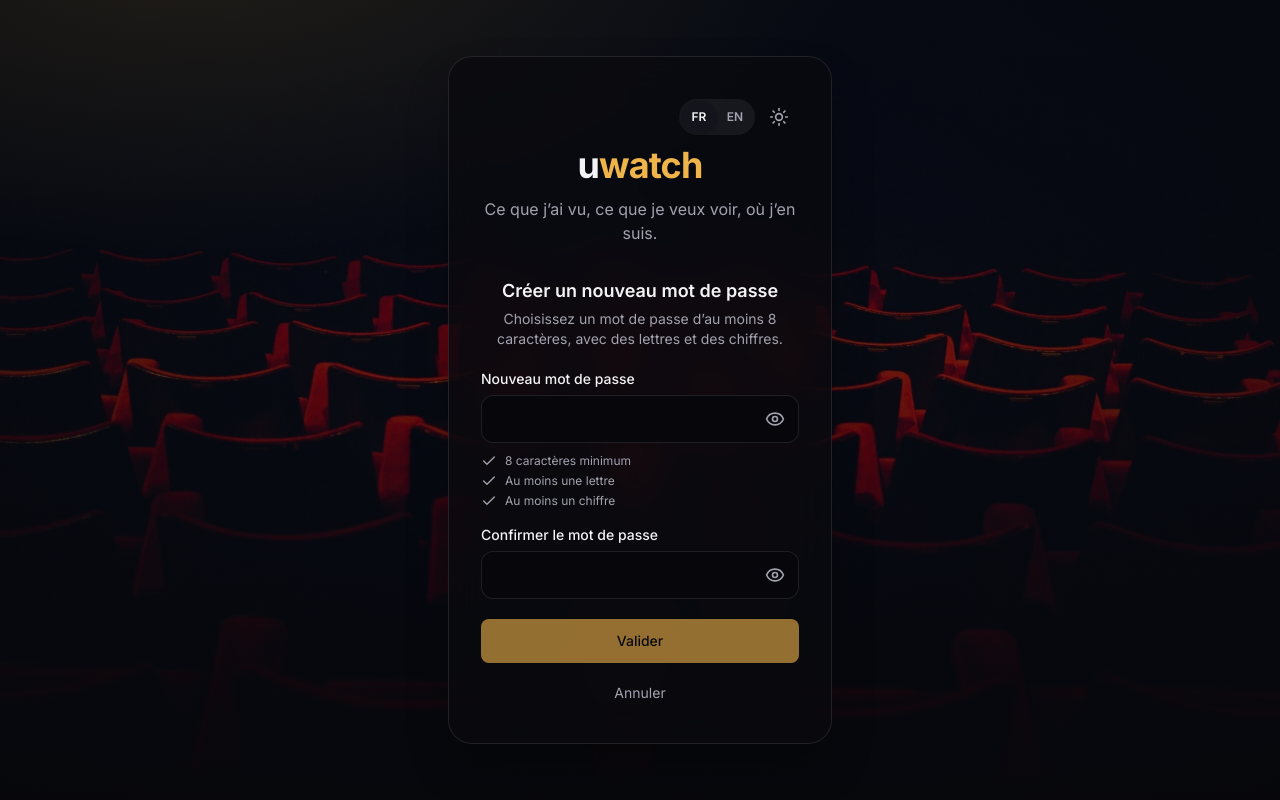
Test case: ResetPasswordPage › explains server refusals clearly
The image size is (1280, 800).
Type "ancien123" into the password field labelled "Nouveau mot de passe".
click(640, 419); type("ancien123")  # box [481, 395, 799, 443]
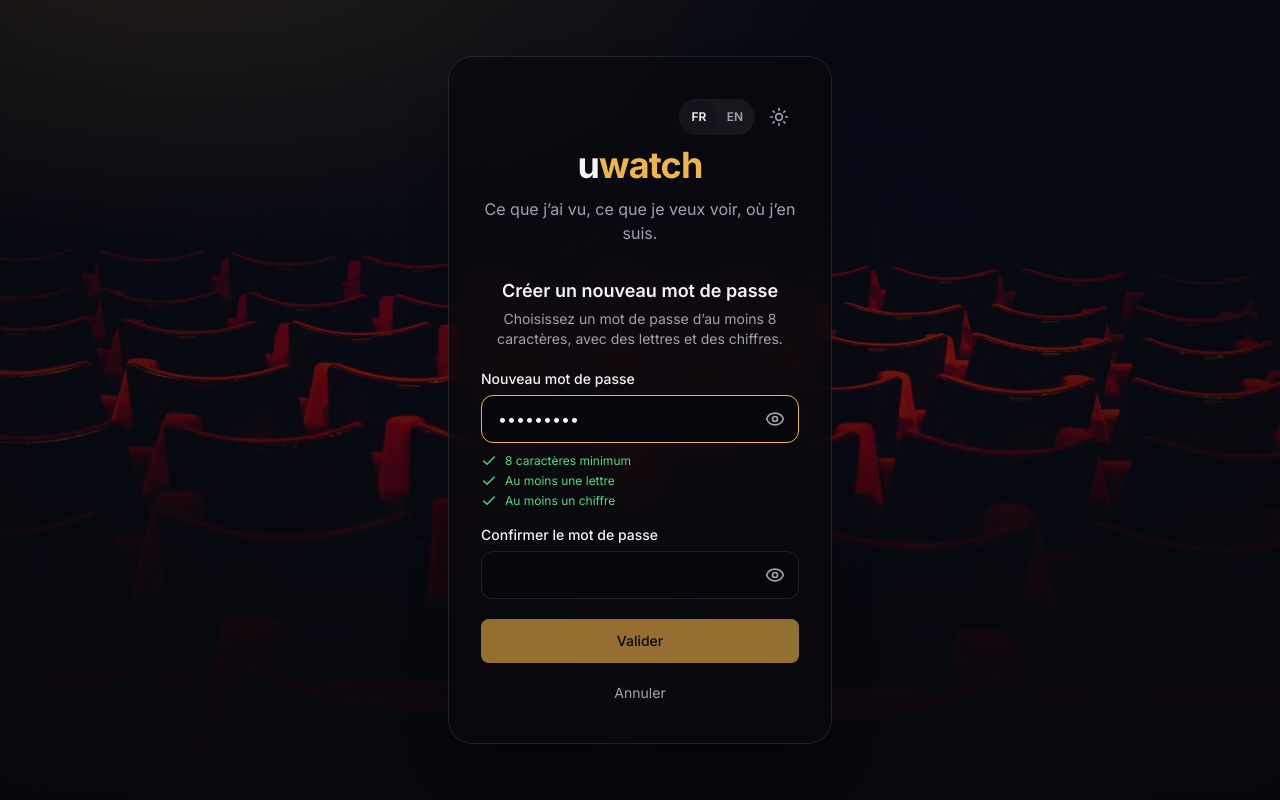
Type "ancien123" into the password field labelled "Confirmer le mot de passe".
click(640, 575); type("ancien123")  # box [481, 551, 799, 599]
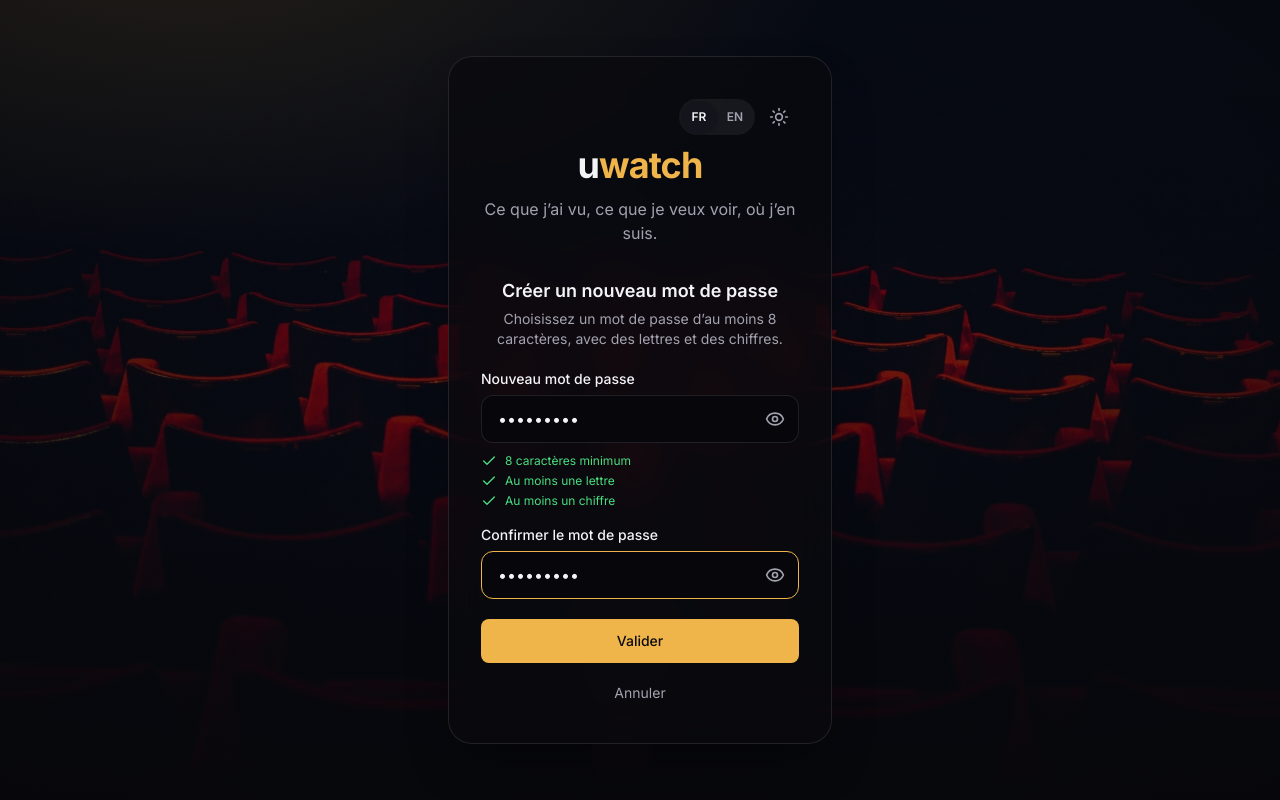
Click the button "Valider".
click(640, 641)  # box [481, 619, 799, 663]
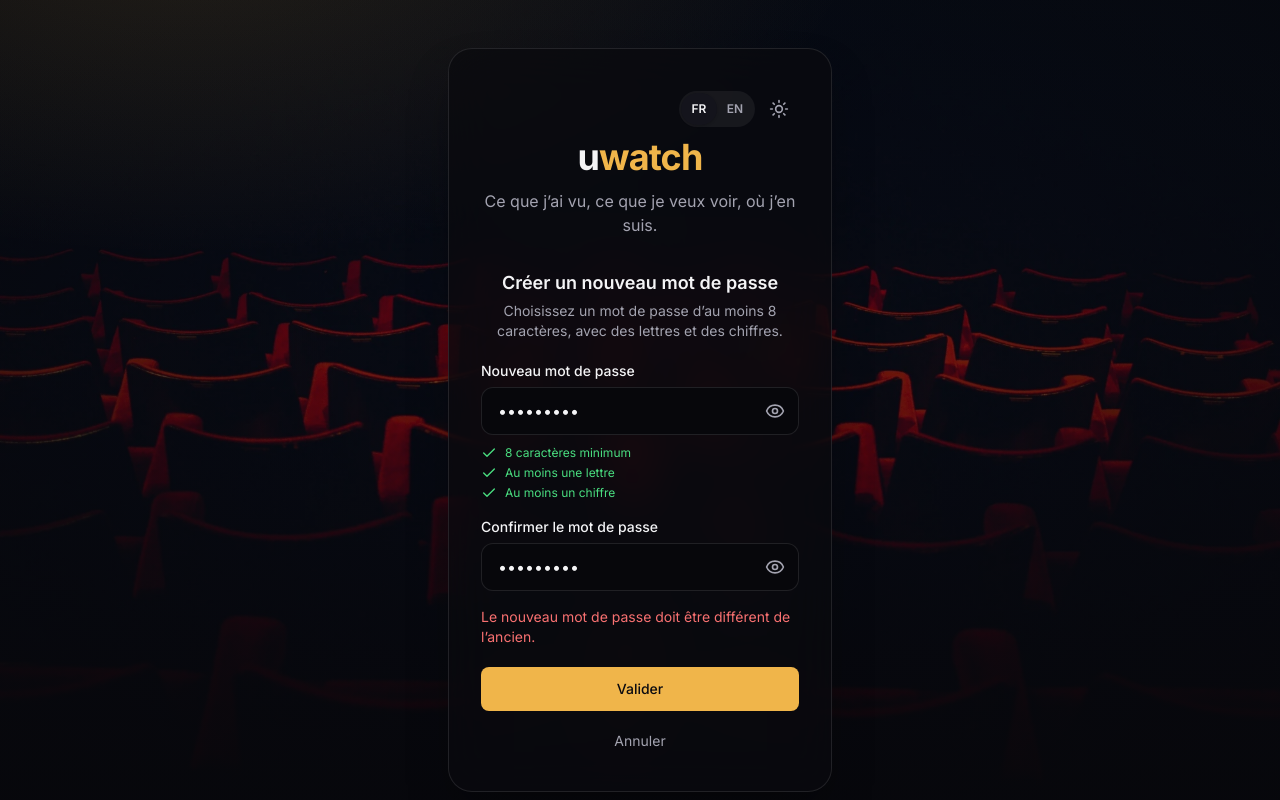
Result: the message reads "Le nouveau mot de passe doit être différent de l’ancien." at [481, 608, 790, 645]
